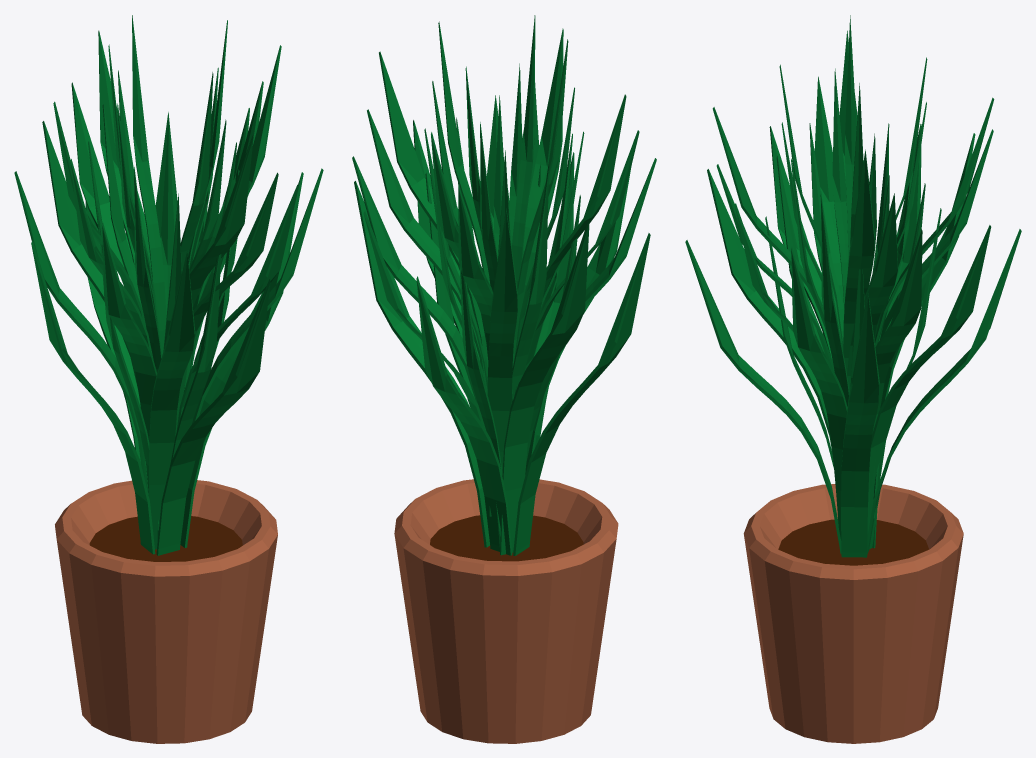
The model's file is plant.fbx.
3 views of the same model, side by side, from view 1: azimuth 30°, elevation 25°; view 2: azimuth 150°, elevation 25°; view 3: azimuth 270°, elevation 25° (orthographic). The views are drawn at different scales.
Parts seen in each view (by area): view 1: pPlane37; view 2: pPlane37; view 3: pPlane37.
Part boxes in pixels (left/top/right/bottom): pPlane37: left=14, top=15, right=323, bottom=743; pPlane37: left=352, top=15, right=656, bottom=743; pPlane37: left=685, top=15, right=1021, bottom=743.
Size of the model in its own units: 3.81 by 8.72 by 3.99.
